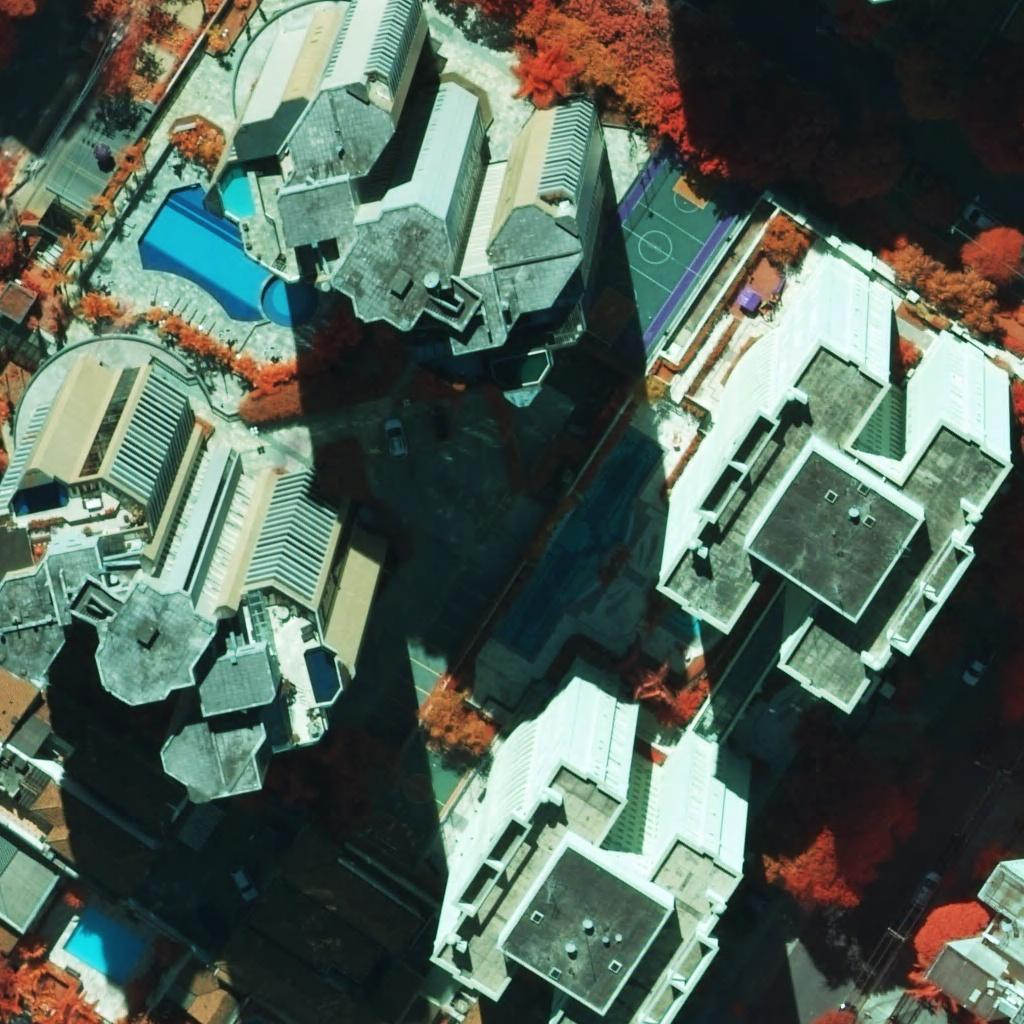pool: (496, 427, 664, 657), (138, 183, 318, 327), (62, 907, 147, 986), (218, 163, 256, 218), (304, 648, 340, 703), (11, 482, 69, 516), (494, 353, 547, 385)
